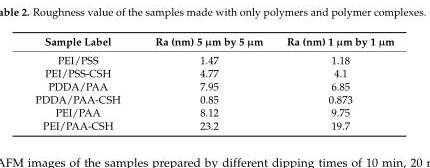table: (34, 34, 393, 131)
table column: (137, 34, 274, 131), (274, 34, 393, 131), (34, 34, 137, 131)
table column header: (34, 34, 393, 50)
table row: (34, 34, 393, 50), (34, 50, 393, 66), (34, 66, 393, 79), (34, 79, 393, 92), (34, 92, 393, 105), (34, 105, 393, 118), (34, 118, 393, 131)
